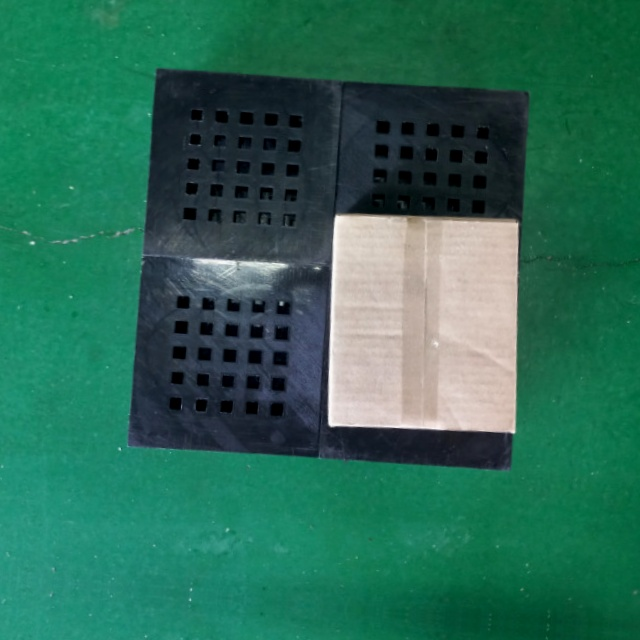box: (323, 214, 524, 436)
pallet: (107, 59, 530, 484)
